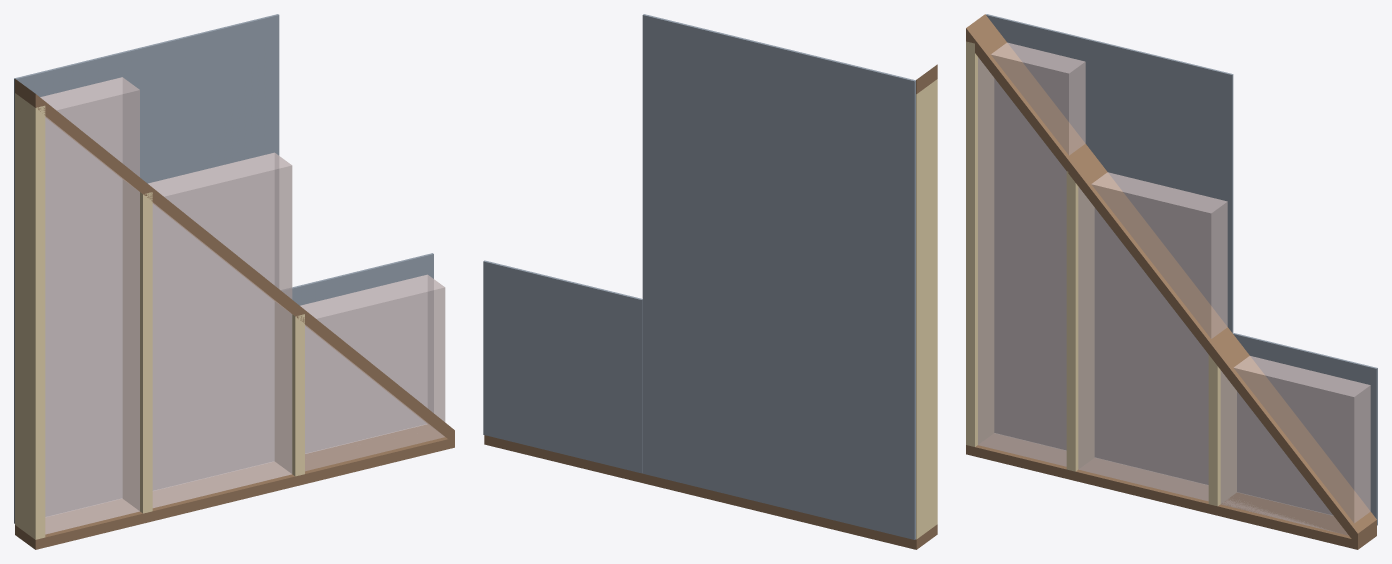
Rendered from EX9_GBL.glb.
The picture shows the model from 3 angles, left to right: view 1: azimuth 30°, elevation 25°; view 2: azimuth 150°, elevation 25°; view 3: azimuth 330°, elevation 25°; orthographic projection. The views are drawn at different scales.
Visible parts, largest first — view 1: EX9 GBL; view 2: EX9 GBL; view 3: EX9 GBL.
Part boxes in pixels (<box>): EX9 GBL: <box>14,14,454,549</box>; EX9 GBL: <box>483,14,937,549</box>; EX9 GBL: <box>966,14,1377,549</box>.
Size of the model in its own units: 1.65 by 1.72 by 0.149.
